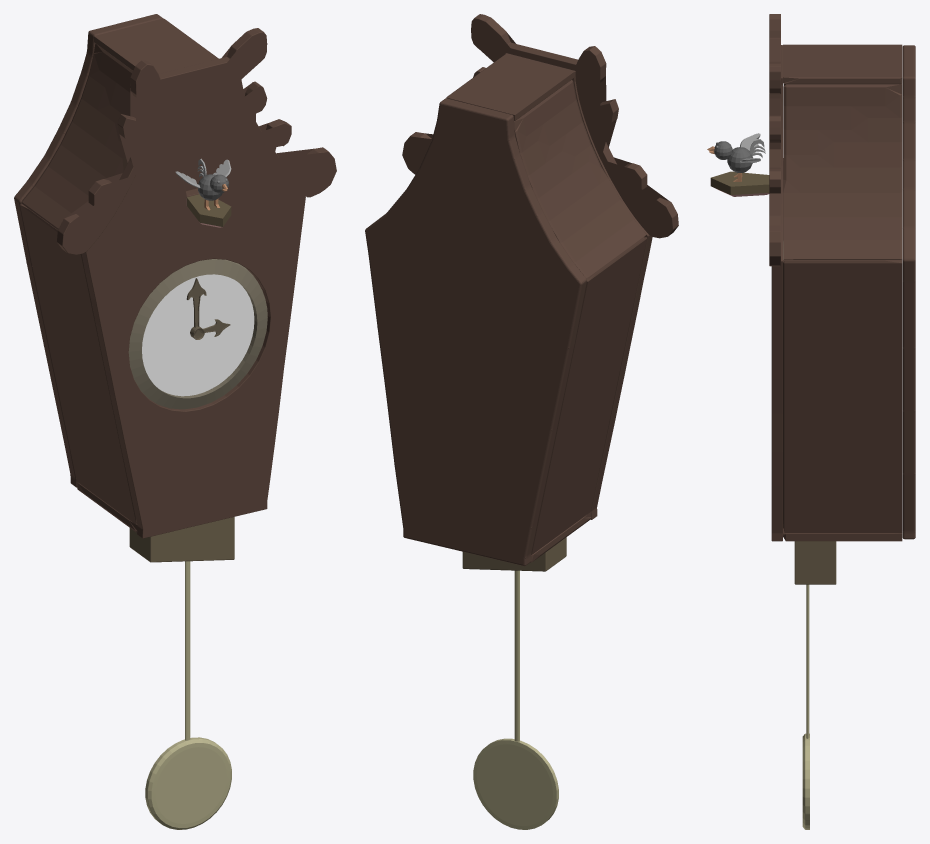
File: cuckooClock.obj
3 views of the same model, side by side, from view 1: azimuth 30°, elevation 25°; view 2: azimuth 150°, elevation 25°; view 3: azimuth 270°, elevation 25° (orthographic).
Parts seen in each view (by area): view 1: Plane.005, SurfCurve.005_Mesh.005, Circle, SurfCurve.001_Mesh.002, Cylinder.002_Cylinder.003, Torus, SurfCurve.003_Mesh, Plane_Plane.022, Cube_Cube.001, Cylinder.001_Cylinder.002, Plane.001; view 2: Plane_Plane.022, SurfCurve.005_Mesh.005, SurfCurve.001_Mesh.002, Plane.005, Cylinder.002_Cylinder.003, SurfCurve.003_Mesh, Cube_Cube.001, Cylinder.001_Cylinder.002; view 3: SurfCurve.006_Mesh.006, SurfCurve.002_Mesh.001, Plane_Plane.022, Plane.005, SurfCurve.003_Mesh, Cube_Cube.001, Plane.001, SurfCurve.004_Mesh.004, Cylinder.002_Cylinder.003, Cylinder.001_Cylinder.002, Plane.010_Plane.017.
Part boxes in pixels (left/top/right/bottom): Plane.005: left=56, top=28, right=336, bottom=538; SurfCurve.005_Mesh.005: left=20, top=204, right=136, bottom=524; Circle: left=142, top=274, right=254, bottom=396; SurfCurve.001_Mesh.002: left=21, top=43, right=132, bottom=229; Cylinder.002_Cylinder.003: left=145, top=737, right=231, bottom=829; Torus: left=128, top=259, right=267, bottom=409; SurfCurve.003_Mesh: left=94, top=18, right=218, bottom=73; Plane_Plane.022: left=14, top=14, right=198, bottom=487; Cube_Cube.001: left=129, top=517, right=234, bottom=562; Cylinder.001_Cylinder.002: left=185, top=561, right=190, bottom=740; Plane.001: left=186, top=194, right=231, bottom=227; Plane_Plane.022: left=365, top=98, right=586, bottom=566; SurfCurve.005_Mesh.005: left=531, top=237, right=646, bottom=554; SurfCurve.001_Mesh.002: left=514, top=80, right=646, bottom=278; Plane.005: left=402, top=14, right=678, bottom=519; Cylinder.002_Cylinder.003: left=473, top=738, right=558, bottom=829; SurfCurve.003_Mesh: left=446, top=54, right=574, bottom=120; Cube_Cube.001: left=462, top=537, right=566, bottom=571; Cylinder.001_Cylinder.002: left=514, top=570, right=519, bottom=741; SurfCurve.006_Mesh.006: left=783, top=259, right=902, bottom=533; SurfCurve.002_Mesh.001: left=783, top=83, right=902, bottom=259; Plane_Plane.022: left=902, top=45, right=915, bottom=539; Plane.005: left=769, top=14, right=782, bottom=541; SurfCurve.003_Mesh: left=783, top=44, right=902, bottom=84; Cube_Cube.001: left=794, top=541, right=836, bottom=584; Plane.001: left=710, top=171, right=769, bottom=196; SurfCurve.004_Mesh.004: left=783, top=528, right=902, bottom=541; Cylinder.002_Cylinder.003: left=802, top=733, right=809, bottom=829; Cylinder.001_Cylinder.002: left=806, top=584, right=809, bottom=738; Plane.010_Plane.017: left=727, top=147, right=752, bottom=172.
Size of the model in its own units: 26.63 by 73.84 by 17.74.
